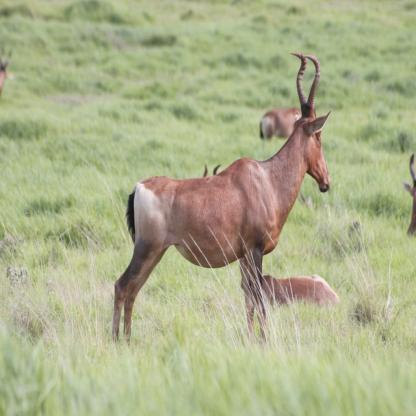Deer: (108, 50, 330, 360)
